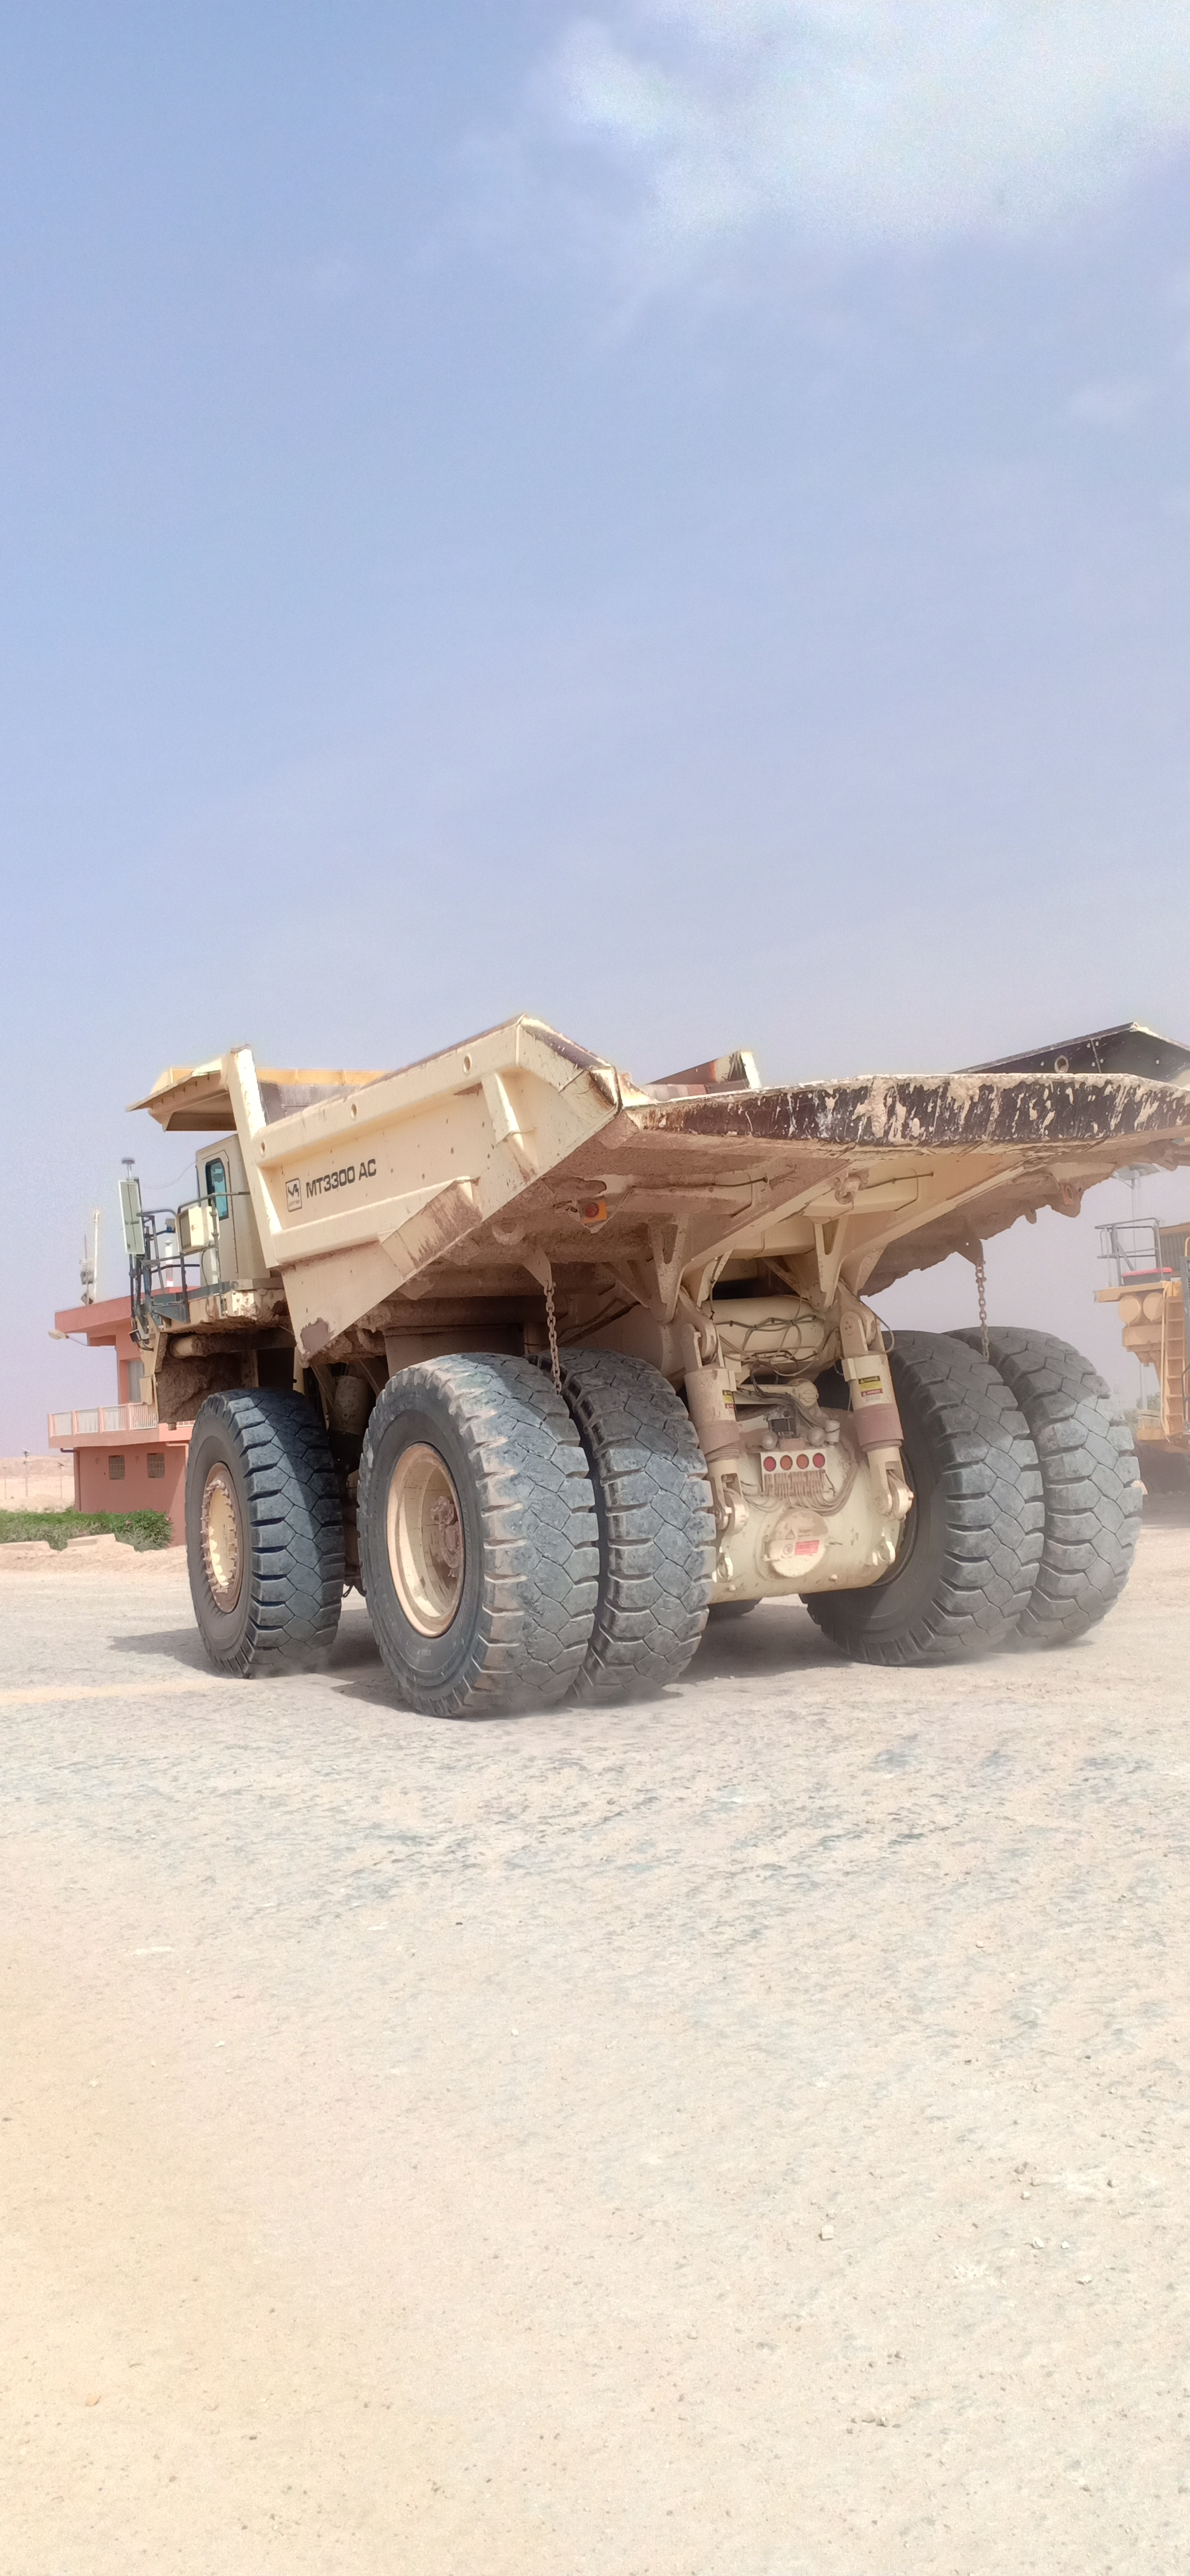camion: (97, 989, 1183, 1758)
